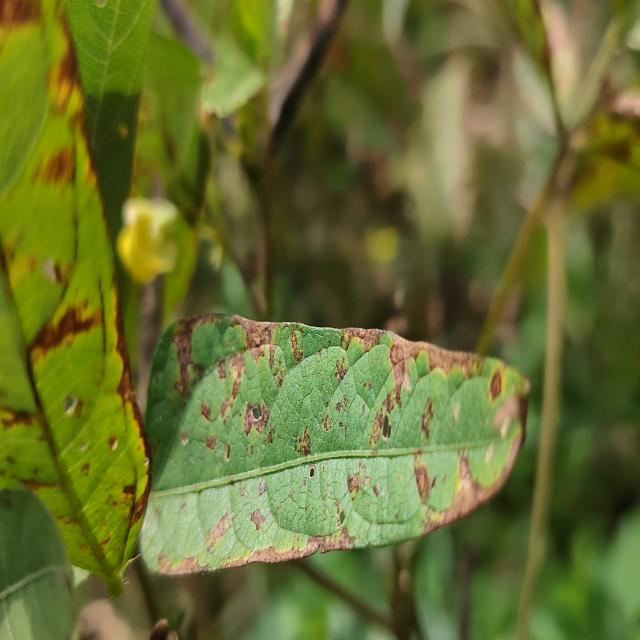Black gram_leaf spot: (133, 303, 530, 576), (0, 0, 152, 577)
